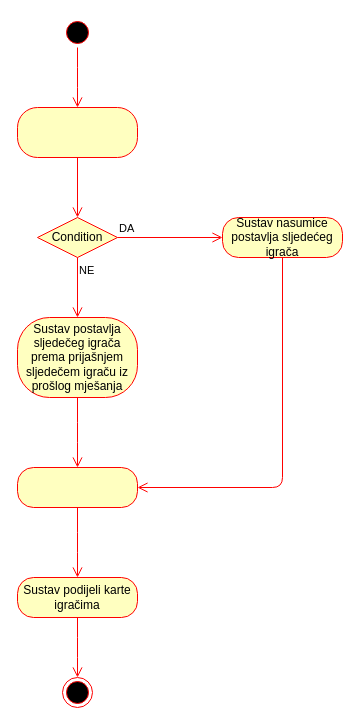
Image size: 360x725. Some labels were removed from this diagram. Here are the shapes that lost their labels. From the top down, the box of each, then its label:
(16, 106, 138, 158): Sustav provjerava je li ovo prvo miješanje u partiji
(16, 466, 138, 508): Sustav promješa karte
